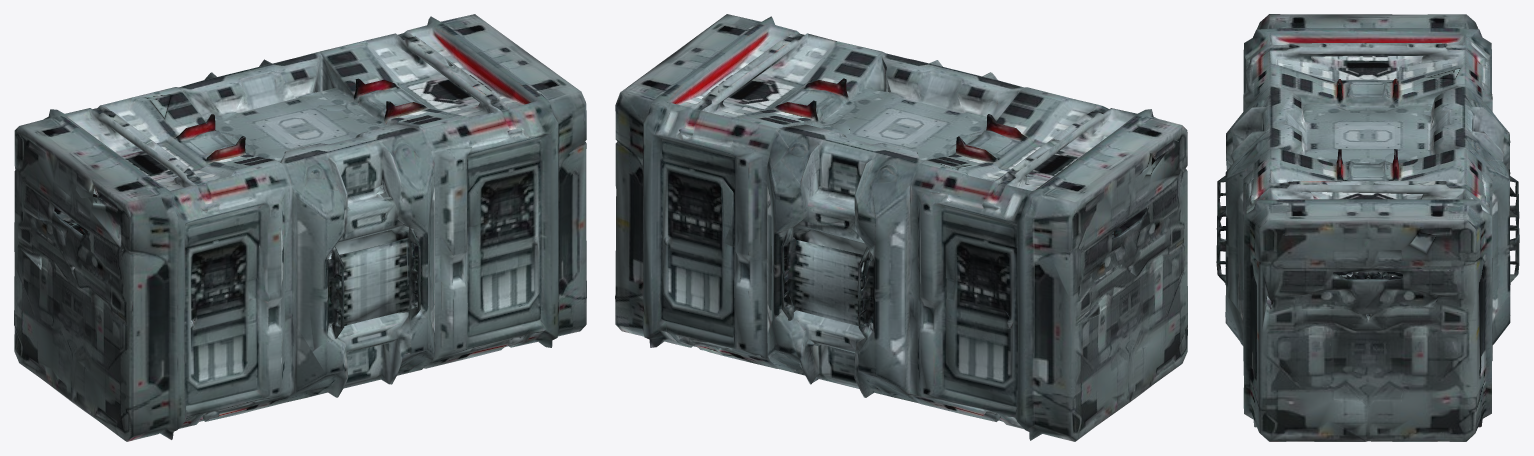
Rendered from capital_marine_barracks.repacked.glb.
3 views of the same model, side by side, from view 1: azimuth 30°, elevation 25°; view 2: azimuth 150°, elevation 25°; view 3: azimuth 270°, elevation 25° (orthographic). The views are drawn at different scales.
Parts seen in each view (by area): view 1: Mesh1.0; view 2: Mesh1.0; view 3: Mesh1.0.
Boxes of the visible parts, x1,y1,x2,y2 form: Mesh1.0: (14,14,586,441); Mesh1.0: (615,14,1187,441); Mesh1.0: (1216,14,1519,441).
Size of the model in its own units: 1.91 by 0.9774 by 1.18.
Materials: 1 (1 with a texture image).
